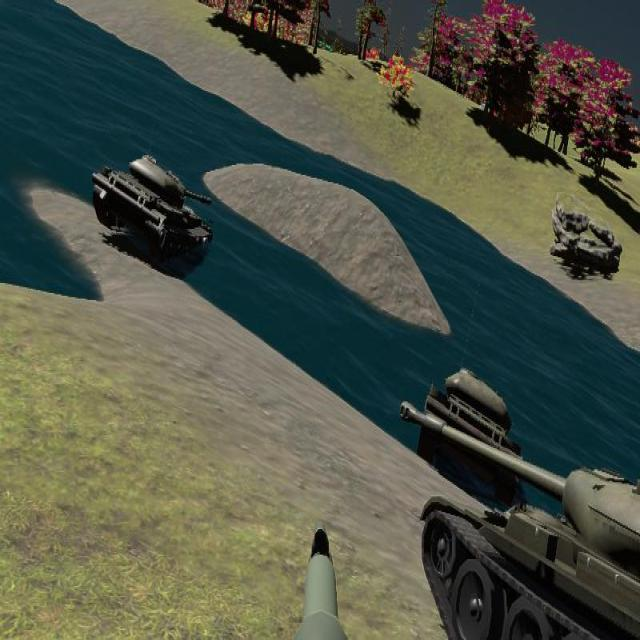Tank: (397, 399, 639, 639), (93, 153, 214, 268), (426, 365, 523, 490)
